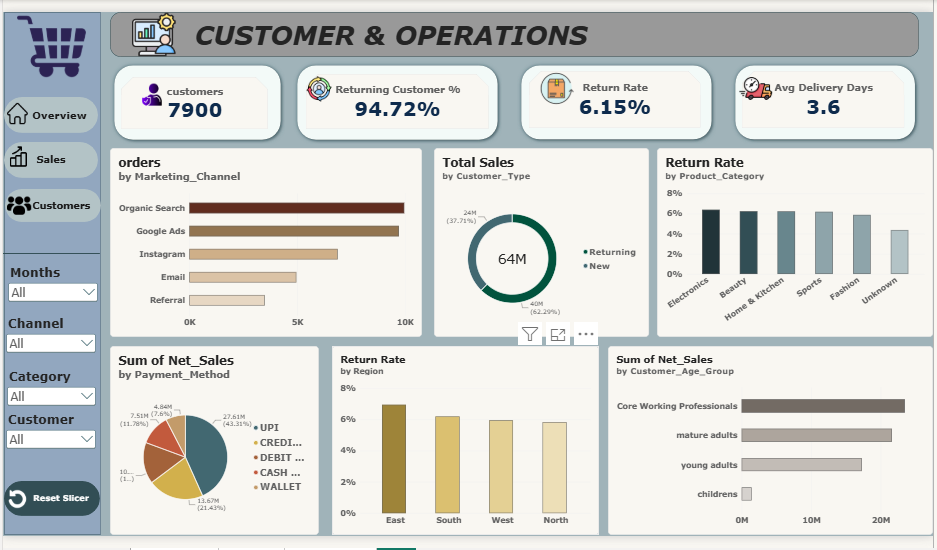

Layout of this report page (visuals, bound fields, positions):
{"tool":"powerbi","page":{"name":"customer","canvas":[1920,1080],"ordinal":2},"visuals":[{"type":"group","id":"g1","title":"Group 19","box":[0,0,202.3,1079.7],"z":0},{"type":"group","id":"g2","title":"Group 12","box":[0,0,202.3,1079.7],"z":0,"group":"g15"},{"type":"group","id":"g3","title":"Group 10","box":[0,0,202.3,1079.7],"z":0,"group":"g2"},{"type":"group","id":"g4","title":"Group 9","box":[1.9,0,200.4,1079.7],"z":0,"group":"g17"},{"type":"shape","box":[1.9,0,200.4,1079.7],"z":0,"group":"g4"},{"type":"cardVisual","fields":{"Data":["Sheet1.Return Rate"]},"box":[1085.3,122.6,354.6,117.6],"z":0,"group":"g8"},{"type":"cardVisual","fields":{"Data":["Sheet1.Average Delivery Days"]},"box":[1526.2,122.6,335.5,117.6],"z":0,"group":"g9"},{"type":"cardVisual","fields":{"Data":["Sheet1.Returning Customer %"]},"box":[625.9,128.2,377.4,113.5],"z":0,"group":"g10"},{"type":"cardVisual","fields":{"Data":["Sheet1.Total_customers"]},"box":[243.5,134.2,303.5,107.4],"z":0,"group":"g11"},{"type":"group","id":"g5","title":"Group 16","box":[2.1,175.5,194.1,74.3],"z":0,"group":"g20"},{"type":"actionButton","box":[2.1,175.5,194.1,74.3],"z":0,"group":"g21"},{"type":"actionButton","box":[2.1,268.6,194.1,74.3],"z":0,"group":"g22"},{"type":"actionButton","box":[2.1,968.3,198.2,72.3],"z":0,"group":"g6"},{"type":"shape","box":[220.9,0,1670.2,92.9],"z":1000},{"type":"image","box":[1057,124.9,173.4,68.4],"z":1000,"group":"g8"},{"type":"image","box":[1472,125.4,164.1,68.4],"z":1000,"group":"g9"},{"type":"image","box":[592.5,132.6,120.1,52.6],"z":1000,"group":"g10"},{"type":"image","box":[255.9,144.8,103.2,51.6],"z":1000,"group":"g11"},{"type":"image","box":[8.3,181.7,43.4,55.7],"z":1000,"group":"g20"},{"type":"image","box":[8,268.5,47.5,59.9],"z":1000,"group":"g22"},{"type":"shape","box":[0,491.4,200.4,14.5],"z":1000,"group":"g17"},{"type":"group","id":"g6","title":"Group 14","box":[2.1,968.3,198.2,72.3],"z":1000,"group":"g15"},{"type":"image","box":[8.3,974.7,43.4,61.9],"z":1000,"group":"g6"},{"type":"textbox","box":[377.8,14.5,1249,78.5],"z":2000},{"type":"shape","box":[220.9,101.2,361.3,171.4],"z":2000,"group":"g7"},{"type":"shape","box":[598.1,101.2,431.5,171.4],"z":2000,"group":"g12"},{"type":"shape","box":[1060.1,101.2,410.8,171],"z":2000,"group":"g13"},{"type":"shape","box":[1502.4,101.2,388.7,171],"z":2000,"group":"g14"},{"type":"image","box":[220.9,0,181.7,92.9],"z":3000},{"type":"group","id":"g7","title":"Group 3","box":[220.9,101.2,361.3,171.4],"z":4000},{"type":"group","id":"g8","title":"Group 2","box":[1057,122.6,382.9,117.6],"z":4000,"group":"g13"},{"type":"group","id":"g9","title":"Group 2","box":[1472,122.6,389.7,117.6],"z":4000,"group":"g14"},{"type":"group","id":"g10","title":"Group 2","box":[592.5,128.2,410.8,113.5],"z":4000,"group":"g12"},{"type":"group","id":"g11","title":"Group 2","box":[243.5,134.2,303.5,107.4],"z":4000,"group":"g7"},{"type":"group","id":"g12","title":"Group 3","box":[592.5,101.2,437.7,171.4],"z":5000},{"type":"group","id":"g13","title":"Group 3","box":[1057,101.2,415,171.4],"z":6000},{"type":"group","id":"g14","title":"Group 3","box":[1472,101.2,419.1,171.4],"z":7000},{"type":"image","box":[1.9,0,196.2,142.5],"z":8000,"group":"g4"},{"type":"donutChart","fields":{"Category":["Sheet1.Customer_Type"],"Y":["Sheet1.Total Sales"]},"box":[889.8,280.8,443.9,390.2],"z":8000},{"type":"barChart","fields":{"Category":["Sheet1.Customer_Age_Group"],"Y":["Sum(Sheet1.Net_Sales)"]},"box":[1249,689.5,671,390.2],"z":9000},{"type":"clusteredBarChart","fields":{"Category":["Sheet1.Marketing_Channel"],"Y":["Sheet1.orders"]},"box":[220.9,280.8,644.1,390.2],"z":10000},{"type":"group","id":"g15","title":"Group 13","box":[0,0,202.3,1079.7],"z":11000,"group":"g1"},{"type":"columnChart","fields":{"Category":["Sheet1.Region"],"Y":["Sheet1.Return Rate"]},"box":[679.2,689.5,551.2,390.2],"z":11000},{"type":"group","id":"g16","title":"Group 1","box":[4.3,342.7,198.2,113.5],"z":11003,"group":"g19"},{"type":"columnChart","fields":{"Y":["Sheet1.Return Rate"],"Category":["Sheet1.Product_Category"]},"box":[1350.2,280.8,569.8,390.2],"z":12000},{"type":"pieChart","fields":{"Category":["Sheet1.Payment_Method"],"Y":["Sum(Sheet1.Net_Sales)"]},"box":[220.9,689.5,431.5,390.2],"z":13000},{"type":"group","id":"g17","title":"Group 11","box":[0,0,202.3,1079.7],"z":14001,"group":"g3"},{"type":"group","id":"g18","title":"Group 16","box":[2.1,268.5,194.1,74.4],"z":15000,"group":"g1"},{"type":"group","id":"g19","title":"Group 18","box":[4.3,342.7,198.2,113.5],"z":16000,"group":"g1"},{"type":"actionButton","box":[4.3,366,198.2,68.1],"z":16000,"group":"g16"},{"type":"group","id":"g20","title":"Group 8","box":[2.1,175.5,194.1,74.3],"z":17000,"group":"g1"},{"type":"image","box":[8,342.7,49.5,113.5],"z":17000,"group":"g16"},{"type":"slicer","fields":{"Values":["Sheet1.Marketing_Channel"]},"box":[1.9,627.6,194.1,86.7],"z":17000,"group":"g4"},{"type":"group","id":"g21","title":"Group 17","box":[2.1,175.5,194.1,74.3],"z":17001,"group":"g5"},{"type":"group","id":"g22","title":"Group 17","box":[2.1,268.5,194.1,74.4],"z":17001,"group":"g18"},{"type":"slicer","fields":{"Values":["Sheet1.Customer_Type"]},"box":[1.9,825.8,194.1,86.7],"z":18000,"group":"g4"},{"type":"slicer","fields":{"Values":["Sheet1.Product_Category"]},"box":[4,737,192,88.8],"z":19000,"group":"g4"},{"type":"slicer","fields":{"Values":["Sheet1.Order_Date.Variation.Date Hierarchy.Month"]},"box":[6.1,522.3,194.1,86.7],"z":20000,"group":"g4"}]}

Visuals, with their boxes on the page's 1920x1080 design canvas (x1, y1, x2, y2). These are canvas units, not pixel positions in the 937x550 screenshot, which may show the page scaled, cropped or inside an application window:
"Group 19" group: box=[0, 0, 202, 1080]
"Group 12" group: box=[0, 0, 202, 1080]
"Group 10" group: box=[0, 0, 202, 1080]
"Group 9" group: box=[2, 0, 202, 1080]
shape: box=[2, 0, 202, 1080]
cardVisual - Sheet1.Return Rate: box=[1085, 123, 1440, 240]
cardVisual - Sheet1.Average Delivery Days: box=[1526, 123, 1862, 240]
cardVisual - Sheet1.Returning Customer %: box=[626, 128, 1003, 242]
cardVisual - Sheet1.Total_customers: box=[244, 134, 547, 242]
"Group 16" group: box=[2, 176, 196, 250]
actionButton: box=[2, 176, 196, 250]
actionButton: box=[2, 269, 196, 343]
actionButton: box=[2, 968, 200, 1041]
shape: box=[221, 0, 1891, 93]
image: box=[1057, 125, 1230, 193]
image: box=[1472, 125, 1636, 194]
image: box=[592, 133, 713, 185]
image: box=[256, 145, 359, 196]
image: box=[8, 182, 52, 237]
image: box=[8, 268, 56, 328]
shape: box=[0, 491, 200, 506]
"Group 14" group: box=[2, 968, 200, 1041]
image: box=[8, 975, 52, 1037]
textbox: box=[378, 14, 1627, 93]
shape: box=[221, 101, 582, 273]
shape: box=[598, 101, 1030, 273]
shape: box=[1060, 101, 1471, 272]
shape: box=[1502, 101, 1891, 272]
image: box=[221, 0, 403, 93]
"Group 3" group: box=[221, 101, 582, 273]
"Group 2" group: box=[1057, 123, 1440, 240]
"Group 2" group: box=[1472, 123, 1862, 240]
"Group 2" group: box=[592, 128, 1003, 242]
"Group 2" group: box=[244, 134, 547, 242]
"Group 3" group: box=[592, 101, 1030, 273]
"Group 3" group: box=[1057, 101, 1472, 273]
"Group 3" group: box=[1472, 101, 1891, 273]
image: box=[2, 0, 198, 142]
donutChart - Sheet1.Customer_Type x Sheet1.Total Sales: box=[890, 281, 1334, 671]
barChart - Sheet1.Customer_Age_Group x Sum(Sheet1.Net_Sales): box=[1249, 690, 1920, 1080]
clusteredBarChart - Sheet1.Marketing_Channel x Sheet1.orders: box=[221, 281, 865, 671]
"Group 13" group: box=[0, 0, 202, 1080]
columnChart - Sheet1.Region x Sheet1.Return Rate: box=[679, 690, 1230, 1080]
"Group 1" group: box=[4, 343, 202, 456]
columnChart - Sheet1.Return Rate x Sheet1.Product_Category: box=[1350, 281, 1920, 671]
pieChart - Sheet1.Payment_Method x Sum(Sheet1.Net_Sales): box=[221, 690, 652, 1080]
"Group 11" group: box=[0, 0, 202, 1080]
"Group 16" group: box=[2, 268, 196, 343]
"Group 18" group: box=[4, 343, 202, 456]
actionButton: box=[4, 366, 202, 434]
"Group 8" group: box=[2, 176, 196, 250]
image: box=[8, 343, 58, 456]
slicer - Sheet1.Marketing_Channel: box=[2, 628, 196, 714]
"Group 17" group: box=[2, 176, 196, 250]
"Group 17" group: box=[2, 268, 196, 343]
slicer - Sheet1.Customer_Type: box=[2, 826, 196, 912]
slicer - Sheet1.Product_Category: box=[4, 737, 196, 826]
slicer - Sheet1.Order_Date.Variation.Date Hierarchy.Month: box=[6, 522, 200, 609]
